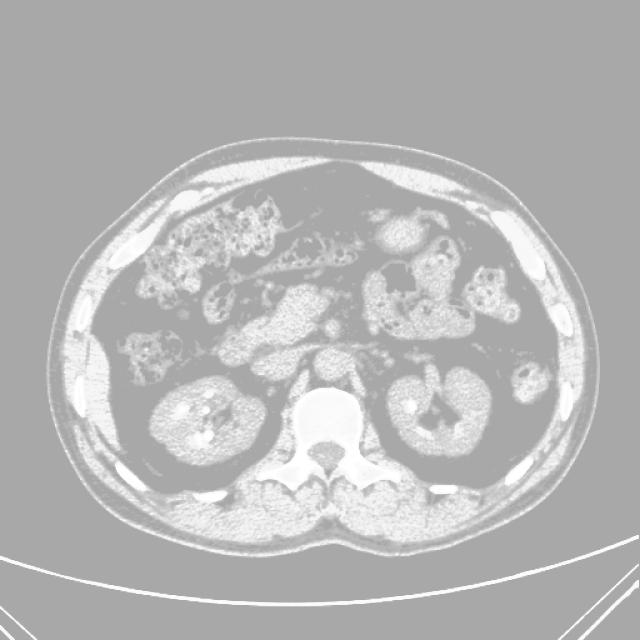STONE: (150, 293, 486, 464)
